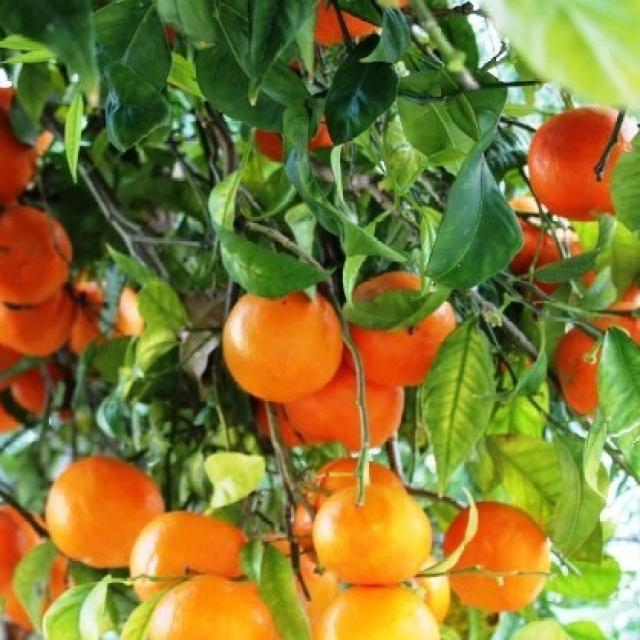Orange: (203, 250, 349, 402), (323, 256, 470, 402), (35, 444, 167, 576), (264, 344, 419, 454), (518, 93, 638, 230), (298, 477, 438, 588), (438, 495, 556, 620), (118, 503, 259, 605), (230, 72, 362, 174), (542, 310, 638, 424), (56, 266, 152, 366), (138, 568, 278, 636), (308, 572, 444, 638), (0, 206, 82, 310), (6, 348, 81, 420)
